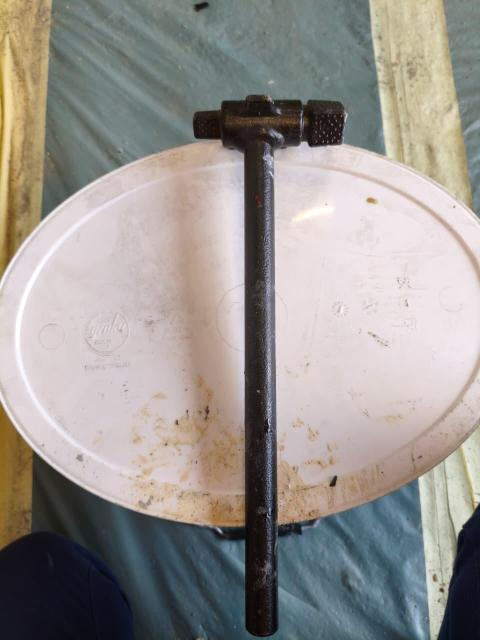Metal: (197, 95, 350, 640)
Plastik: (53, 237, 185, 498), (370, 212, 468, 447)
